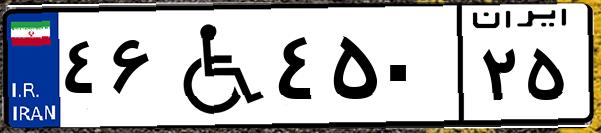0: (385, 28, 445, 110)
2: (475, 38, 525, 113)
4: (270, 28, 330, 110), (57, 26, 110, 100)
5: (330, 28, 385, 110), (525, 38, 570, 115)
6: (110, 28, 158, 98)
ژ (معلولین و جانبازان): (158, 12, 270, 120)
